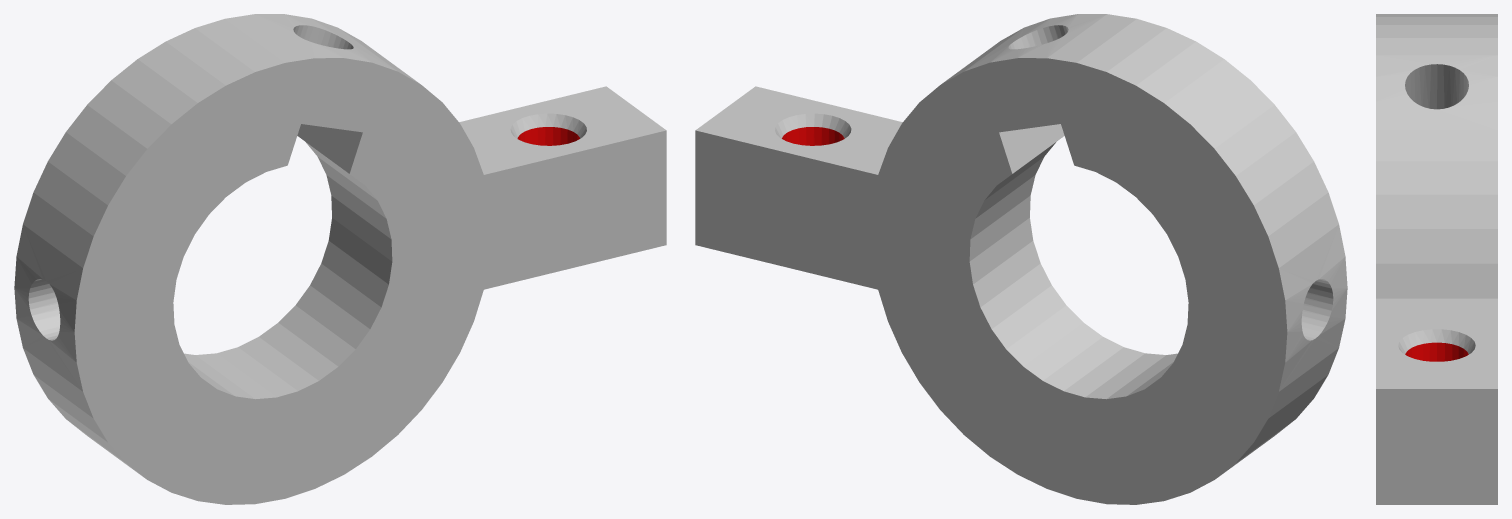
Rendered from 3__1__stp_11.obj.
3 renders of one model, left to right at view 1: azimuth 30°, elevation 25°; view 2: azimuth 150°, elevation 25°; view 3: azimuth 270°, elevation 25°, orthographic.
Parts seen in each view (by area): view 1: Object1; view 2: Object1; view 3: Object1.
Boxes of the visible parts, box(x1,y1,x2,y2) form: Object1: box(14, 14, 666, 504); Object1: box(695, 14, 1347, 504); Object1: box(1376, 14, 1497, 504).
Bounding box in the file's own units: 54 × 38 × 9.52.
